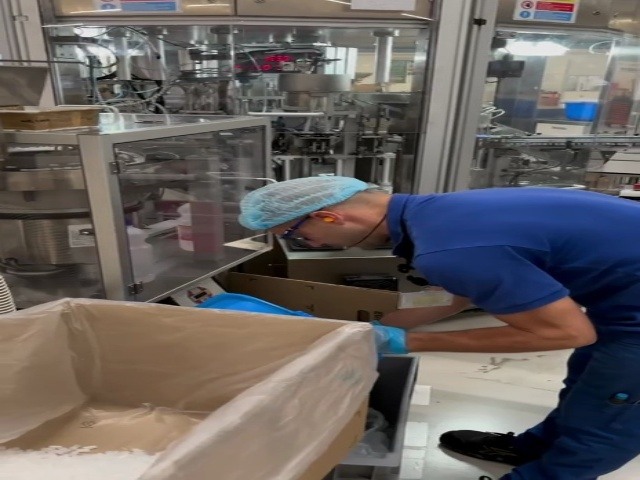Earplug: (311, 208, 347, 229)
Hairnet: (241, 173, 362, 232)
No_Helmet: (245, 177, 363, 230)
No_Vest: (395, 193, 640, 311)
Person: (244, 177, 640, 480)
Safety_Goggles: (278, 205, 319, 244)
